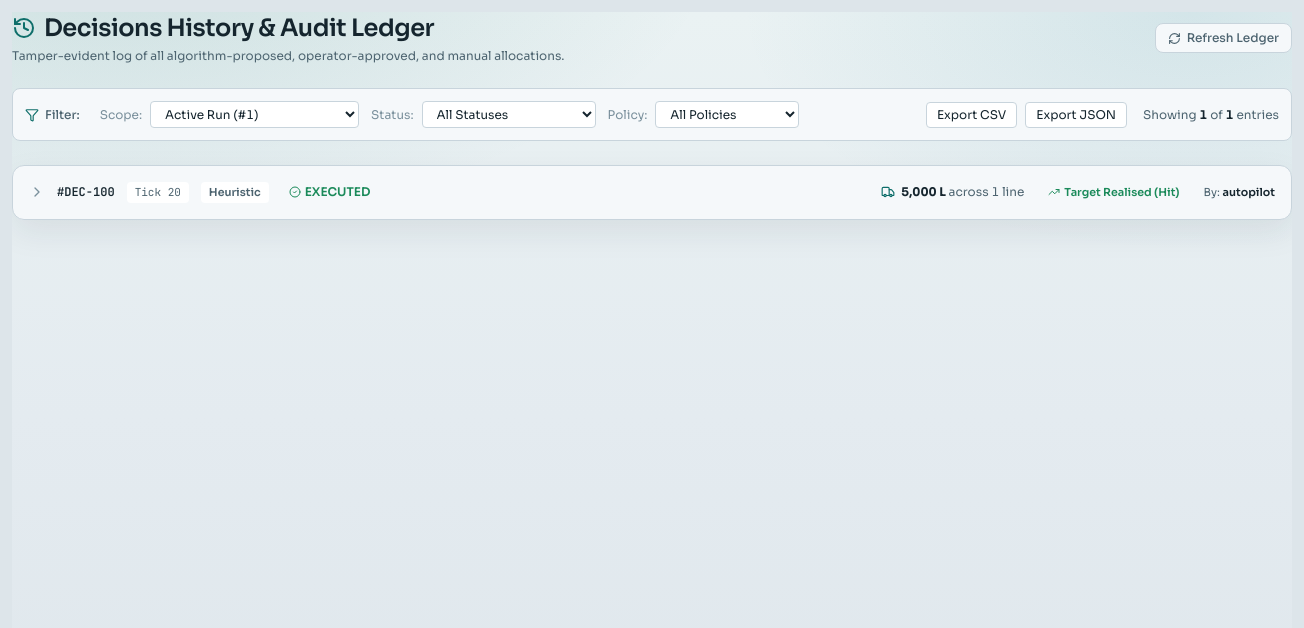
Phase 04 UI — Recommendations & Decisions Workflow › renders decisions history and shows outcome indicators
The image size is (1304, 628).
Expected: the heading "Decisions History & Audit Ledger" is shown, [12,13,434,43]
Expected: the text "Target Realised (Hit)" is shown, [1040,182,1188,202]
# Click to expand line details
Click the text "#DEC-100" at (86, 192), box [57,184,115,200]
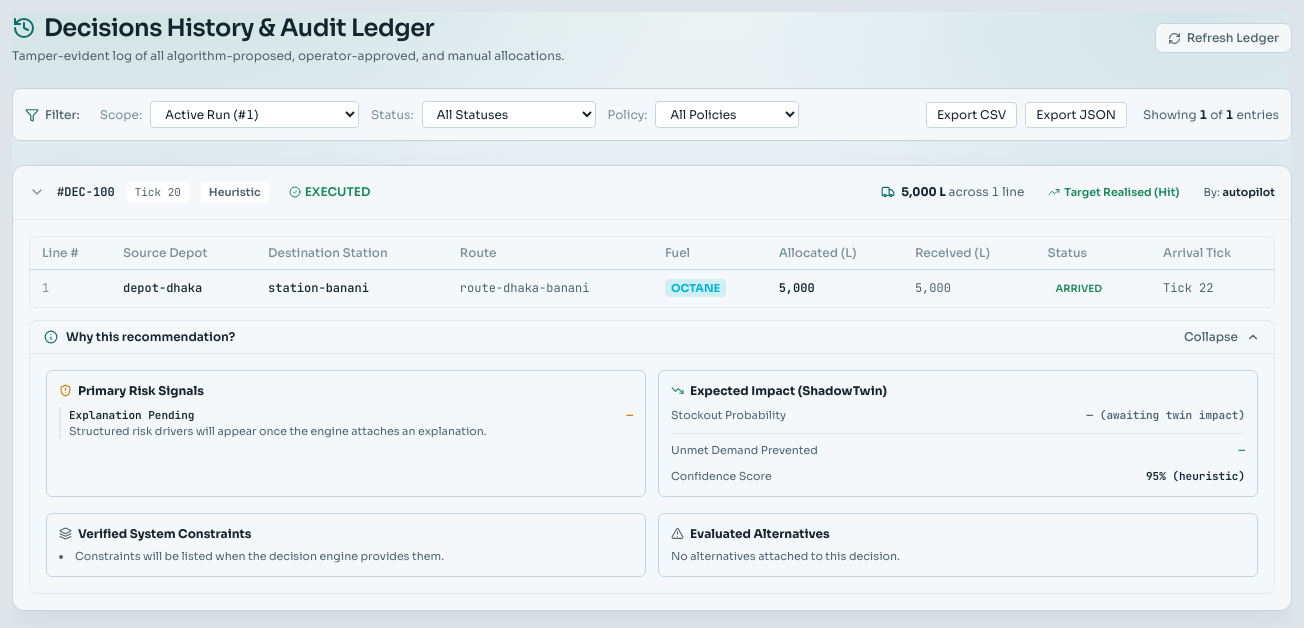
Expected: the text "route-dhaka-banani" is shown, [448,269,653,306]
Expected: the text "ARRIVED" is shown, [1056,282,1102,294]
